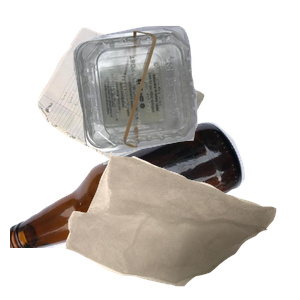glass: (10, 120, 247, 300)
paper: (35, 25, 232, 204)
plastic: (71, 23, 300, 169)
trash: (63, 149, 300, 300)
